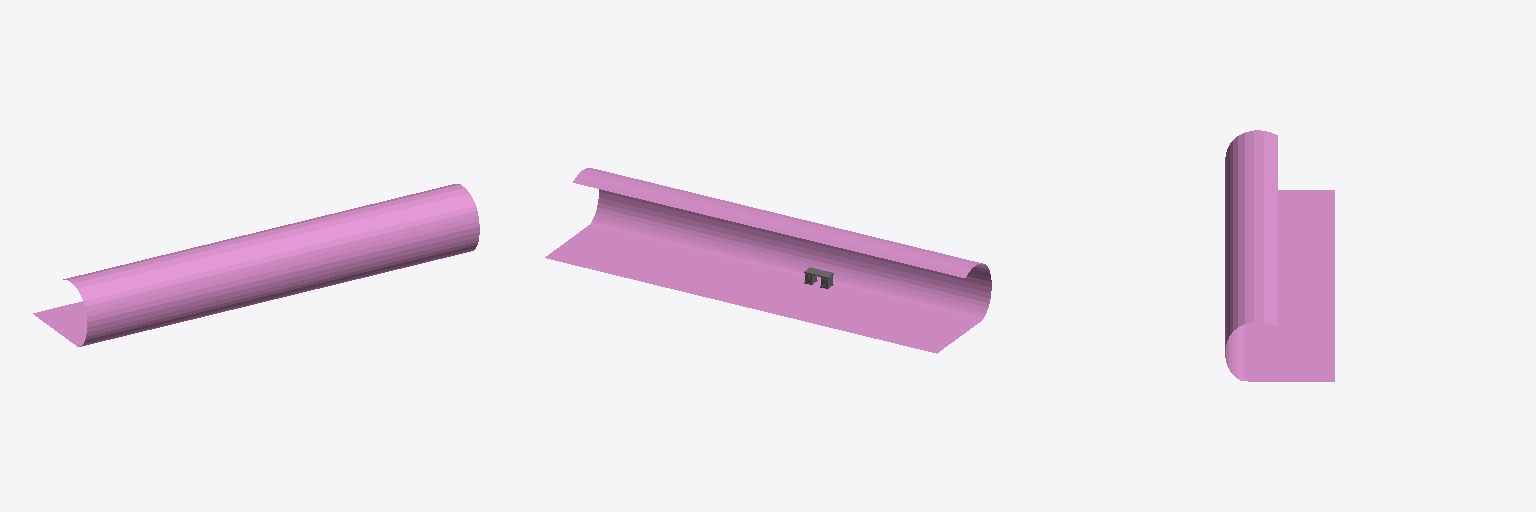
Rendered from selva.obj.
The picture shows the model from 3 angles: view 1: azimuth 30°, elevation 25°; view 2: azimuth 150°, elevation 25°; view 3: azimuth 270°, elevation 25°; orthographic projection.
Visible parts, largest first — view 1: Fob; view 2: Fob; view 3: Fob.
Part boxes in pixels (left/top/right/bottom): Fob: left=33, top=184, right=479, bottom=346; Fob: left=545, top=168, right=991, bottom=353; Fob: left=1225, top=130, right=1334, bottom=381.
Bounding box in the file's own units: 26413 × 3825 × 6392.